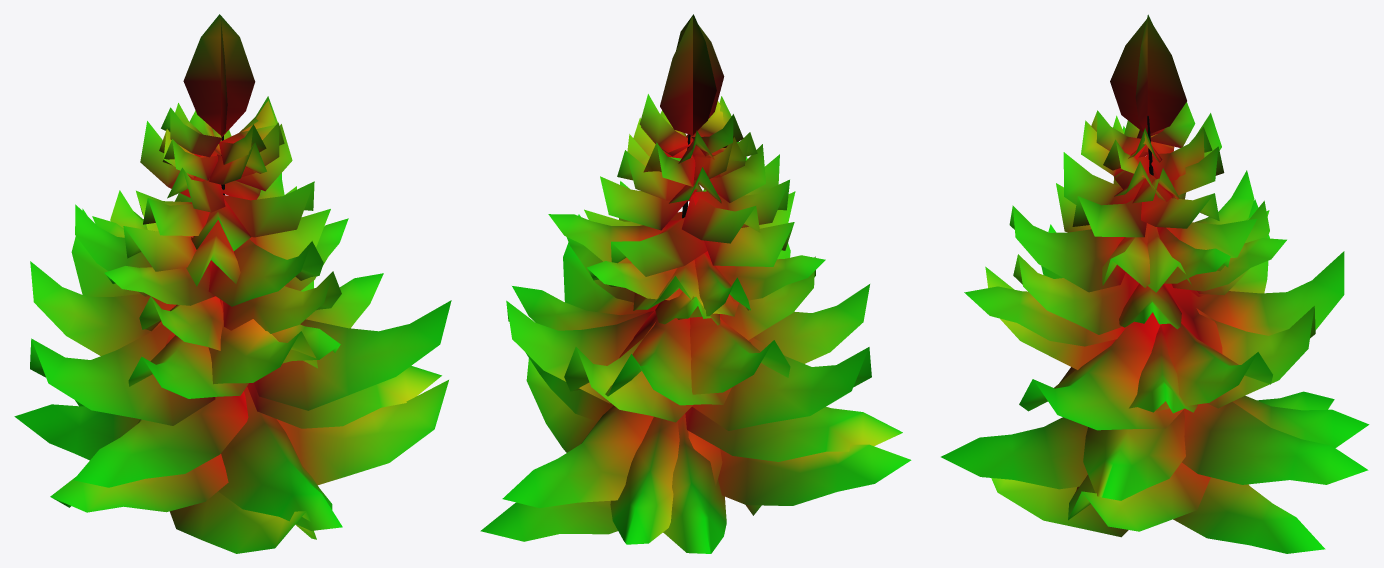
The model's file is Spruce_Small_2.fbx.
3 renders of one model, left to right at view 1: azimuth 30°, elevation 25°; view 2: azimuth 150°, elevation 25°; view 3: azimuth 270°, elevation 25°, orthographic.
Parts seen in each view (by area): view 1: Spruce_Small_2; view 2: Spruce_Small_2; view 3: Spruce_Small_2.
Part boxes in pixels (<box>): Spruce_Small_2: <box>14,14,451,553</box>; Spruce_Small_2: <box>480,14,911,553</box>; Spruce_Small_2: <box>941,14,1369,553</box>.
Bounding box in the file's own units: 3.18 × 3.83 × 3.05.
